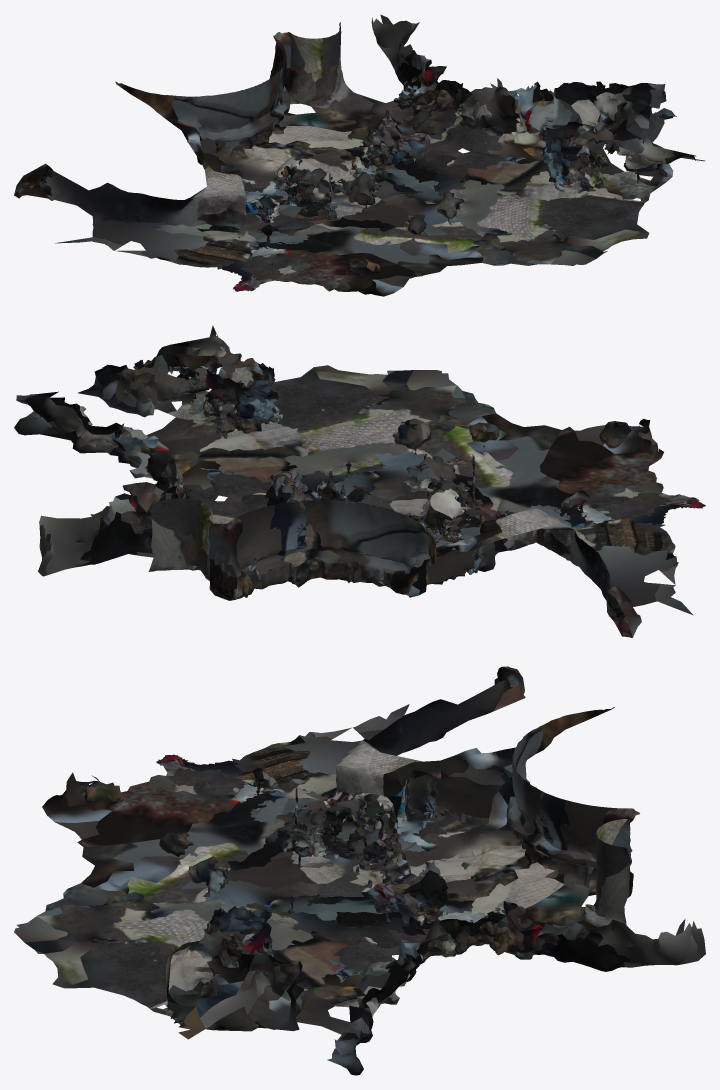
The model's file is planetarium 2_edited 2.fbx.
3 renders of one model, top to bottom at view 1: azimuth 30°, elevation 25°; view 2: azimuth 150°, elevation 25°; view 3: azimuth 270°, elevation 25°, orthographic. The views are drawn at different scales.
Parts seen in each view (by area): view 1: Polygon; view 2: Polygon; view 3: Polygon.
Boxes of the visible parts, box(x1,y1,x2,y2) form: Polygon: box(14, 14, 705, 296); Polygon: box(14, 325, 705, 637); Polygon: box(14, 666, 705, 1075).
Bounding box in the file's own units: 1105 × 131 × 880.
